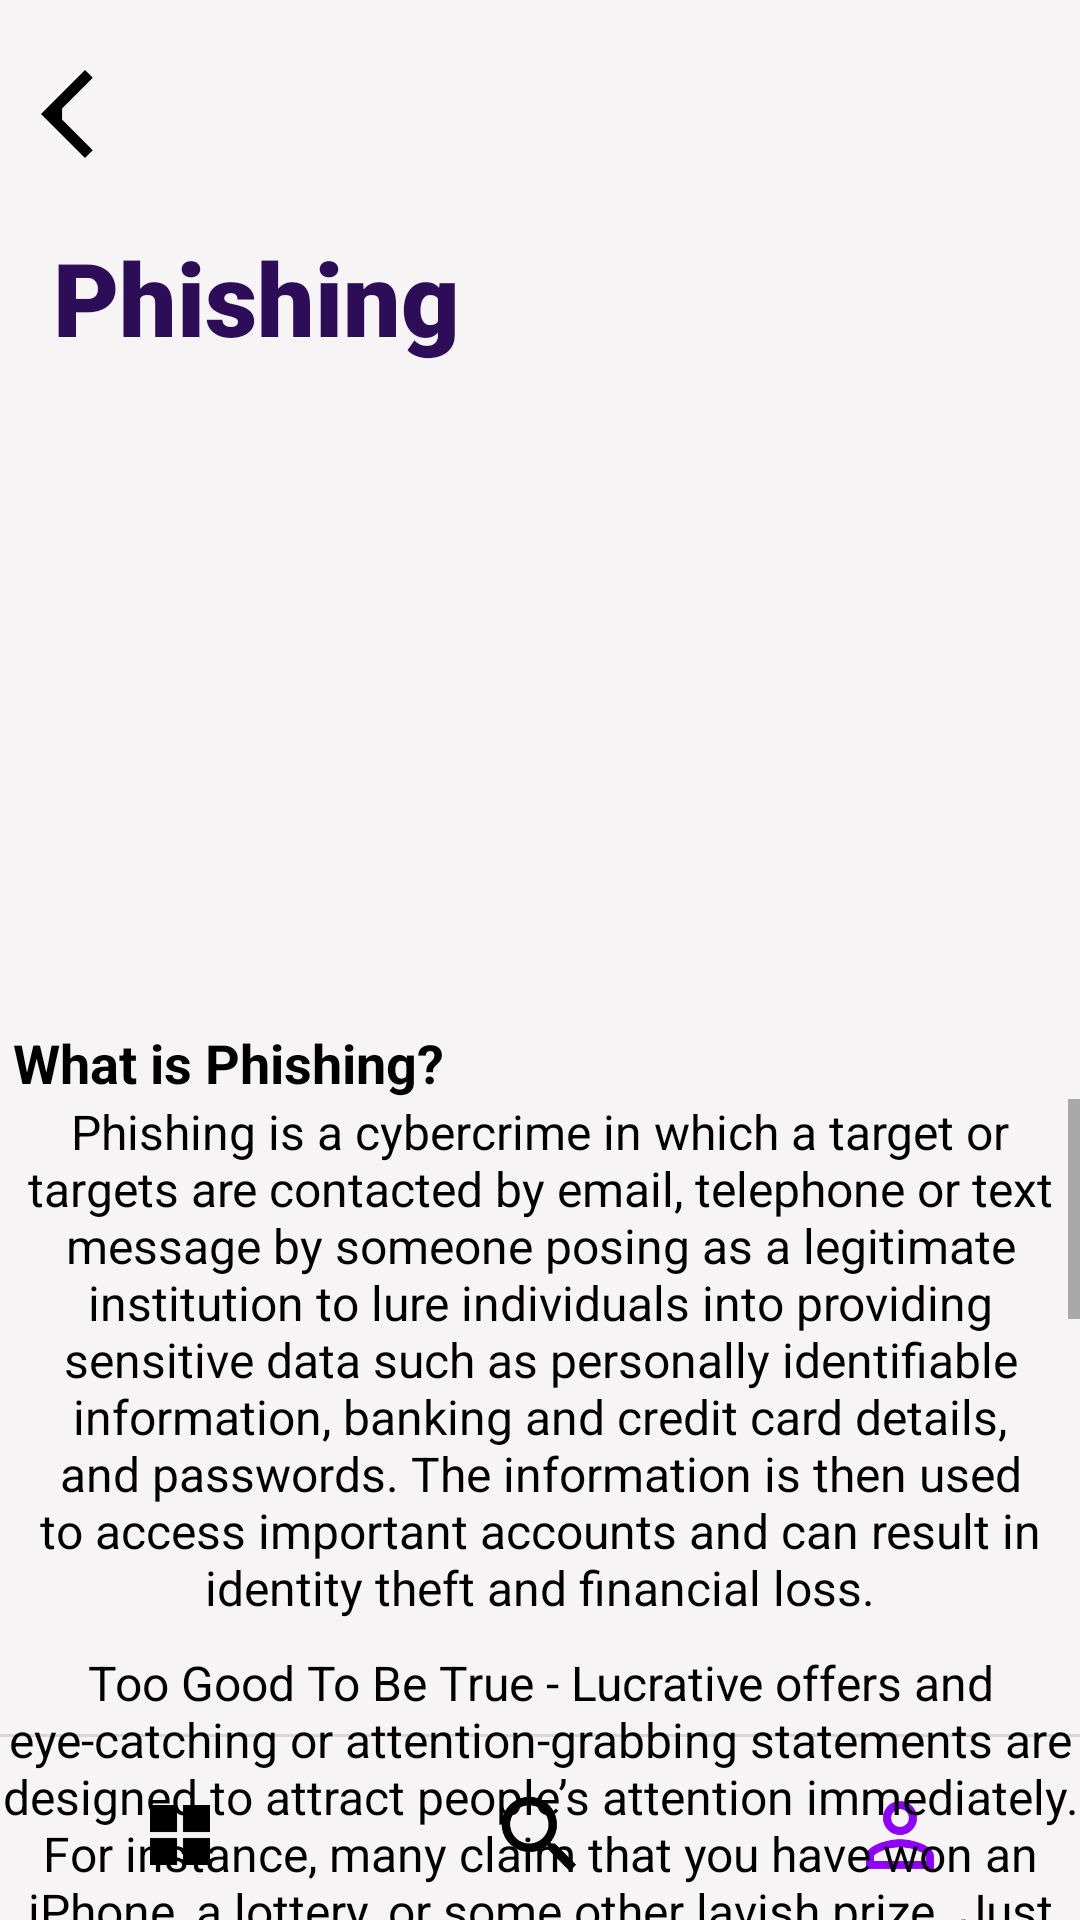

Named icons in this screenshot (1080x1920) and their centers, point (x, y):
back arrow: point (67, 114)
